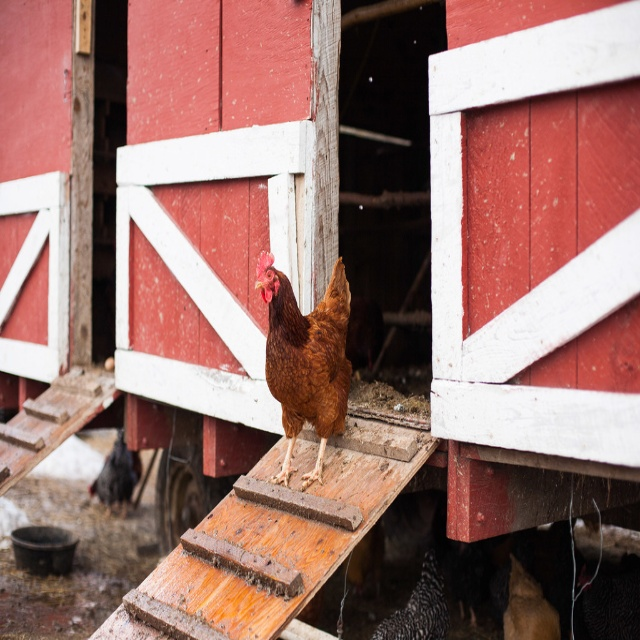Chicken: (263, 232, 358, 485)
